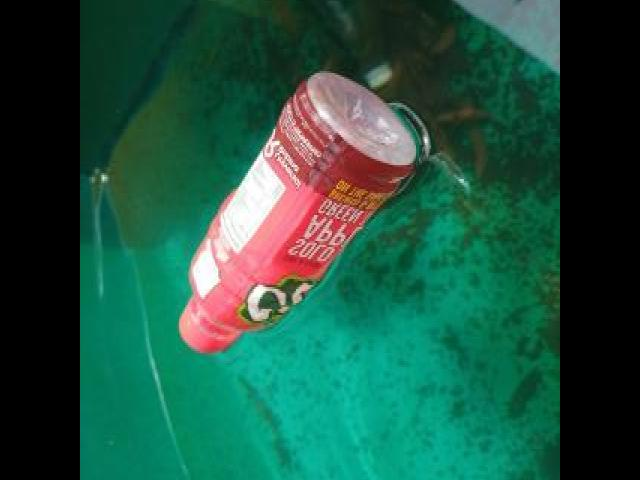Bottle: (172, 61, 426, 360)
